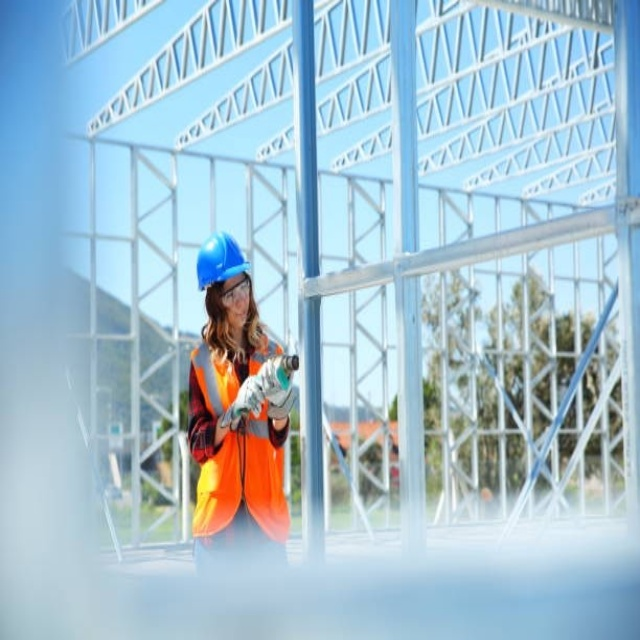Gafas: (220, 277, 250, 304)
Guantes: (224, 372, 265, 427)
Sin_mascara: (234, 306, 248, 326)
